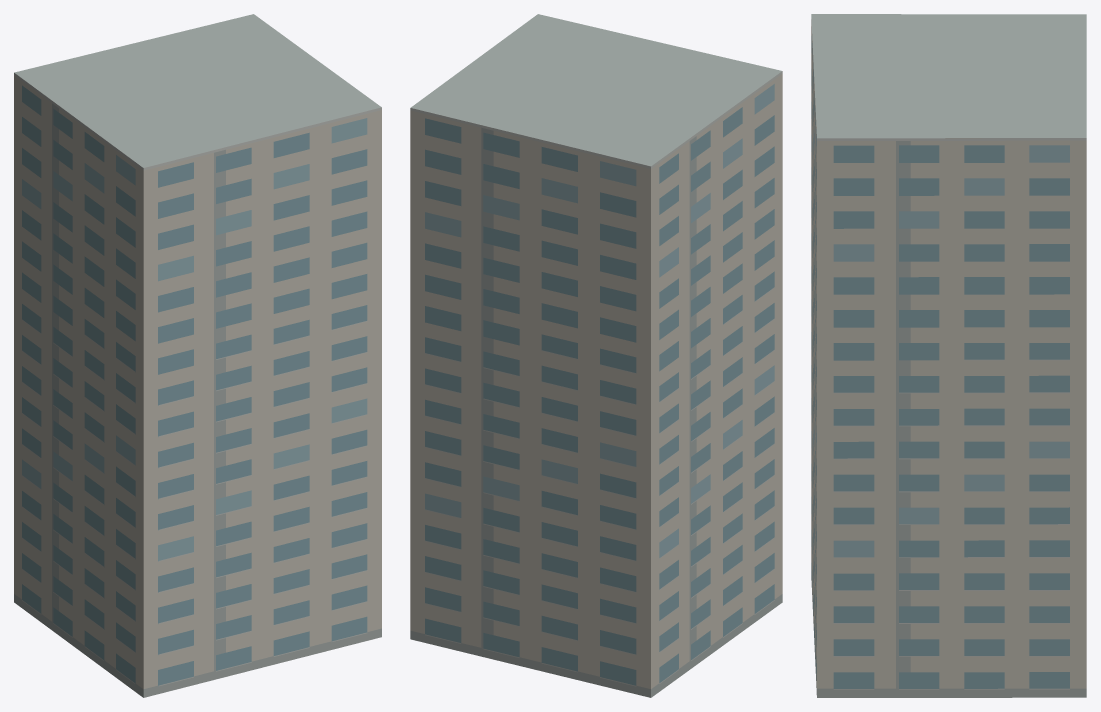
File: residential-a9933c25-4efd-484a-a2aa-d11fc21f36a4.glb
3 views of the same model, side by side, from view 1: azimuth 30°, elevation 25°; view 2: azimuth 150°, elevation 25°; view 3: azimuth 270°, elevation 25° (orthographic). The views are drawn at different scales.
Parts seen in each view (by area): view 1: residential-a9933c25-4efd-484a-a2aa-d11fc21f36a4.tmp; view 2: residential-a9933c25-4efd-484a-a2aa-d11fc21f36a4.tmp; view 3: residential-a9933c25-4efd-484a-a2aa-d11fc21f36a4.tmp.
Boxes of the visible parts, x1,y1,x2,y2 form: residential-a9933c25-4efd-484a-a2aa-d11fc21f36a4.tmp: (14, 14, 381, 697); residential-a9933c25-4efd-484a-a2aa-d11fc21f36a4.tmp: (410, 14, 782, 697); residential-a9933c25-4efd-484a-a2aa-d11fc21f36a4.tmp: (811, 14, 1086, 697).
Size of the model in its own units: 23.82 by 50 by 22.32.
